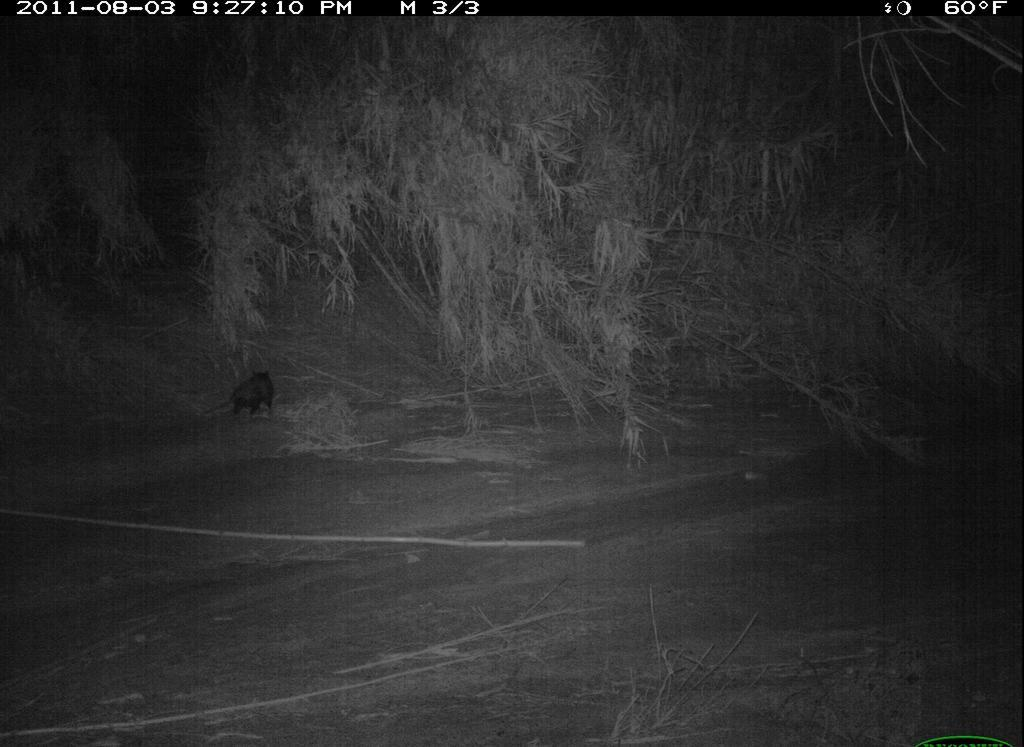opossum: (196, 363, 286, 437)
